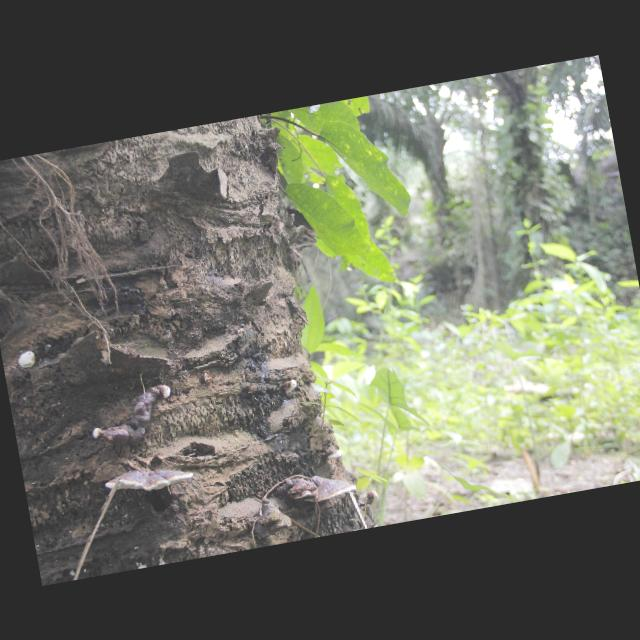ganoderma: (95, 385, 164, 449), (104, 461, 197, 500), (300, 470, 359, 506), (277, 475, 320, 504), (17, 351, 38, 371), (324, 449, 343, 462)
primordium: (281, 379, 299, 396), (157, 383, 173, 401), (365, 491, 380, 504), (92, 427, 104, 441)
